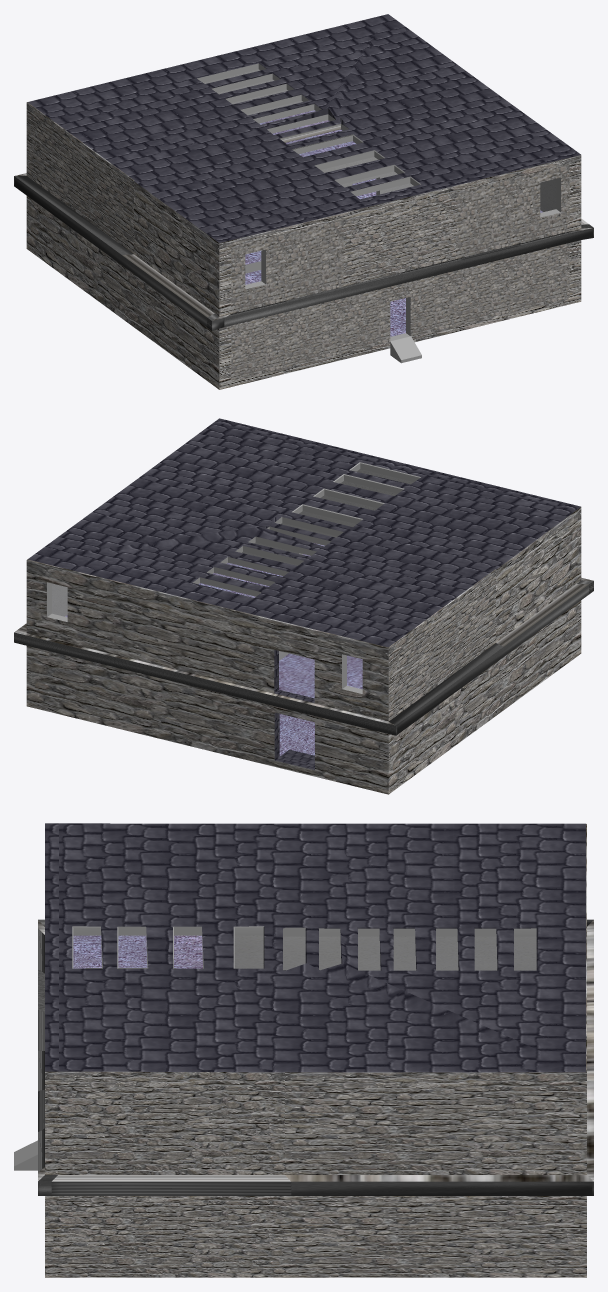
The model's file is Starting_House.fbx.
3 views of the same model, one above another, from view 1: azimuth 30°, elevation 25°; view 2: azimuth 150°, elevation 25°; view 3: azimuth 270°, elevation 25° (orthographic). The views are drawn at different scales.
Visible parts, largest first — view 1: pCube34, pCube7, pCube22; view 2: pCube34, pCube22; view 3: pCube34, pCube22, pCube7.
Part boxes in pixels (x1,y1,x2,y2): pCube34: (14, 14, 593, 389); pCube7: (390, 336, 421, 363); pCube22: (321, 157, 413, 195); pCube34: (14, 418, 593, 794); pCube22: (241, 511, 356, 660); pCube34: (38, 823, 593, 1277); pCube22: (234, 935, 536, 970); pCube7: (14, 1140, 37, 1170).
Size of the model in its own units: 20.08 by 7.97 by 18.79.
Materials: 6 (5 with a texture image).
